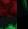crimstone: (0, 0, 17, 17)
tree: (17, 0, 28, 17)
